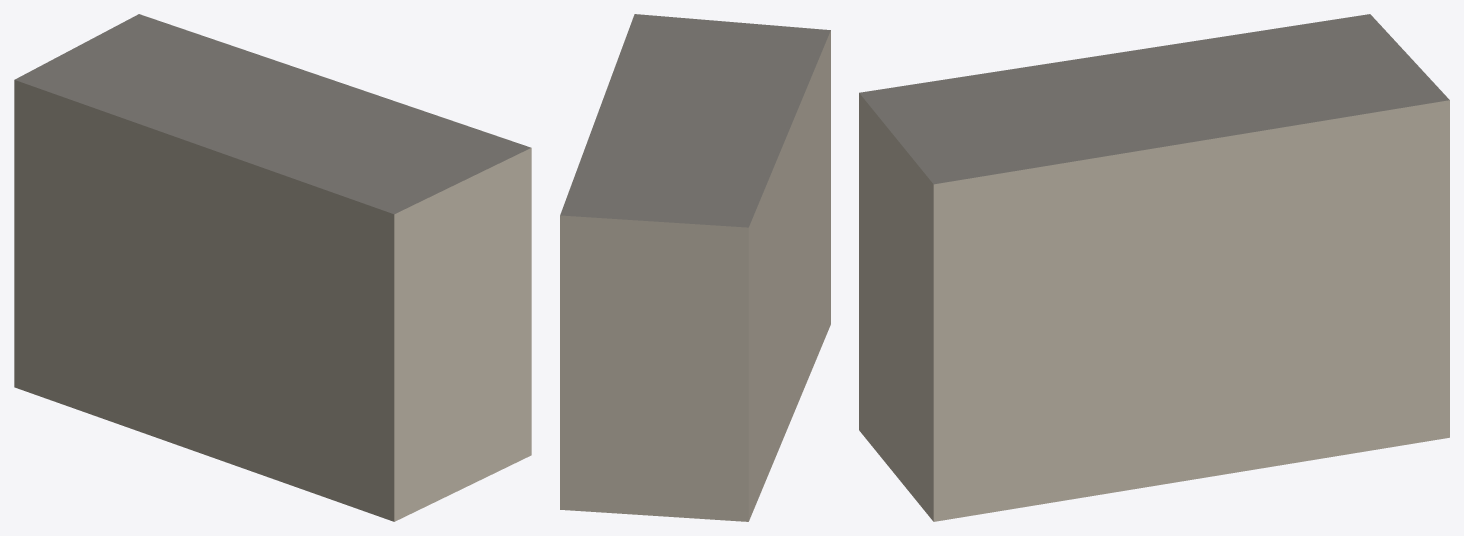
3 renders of one model, left to right at view 1: azimuth 30°, elevation 25°; view 2: azimuth 150°, elevation 25°; view 3: azimuth 270°, elevation 25°, orthographic. The views are drawn at different scales.
Visible parts, largest first — view 1: HP-w1196823091; view 2: HP-w1196823091; view 3: HP-w1196823091.
Part boxes in pixels (x1,y1,x2,y2): HP-w1196823091: (14,14,531,521); HP-w1196823091: (560,14,830,521); HP-w1196823091: (859,14,1449,521).
Size of the model in its own units: 19.49 by 18 by 28.55.
